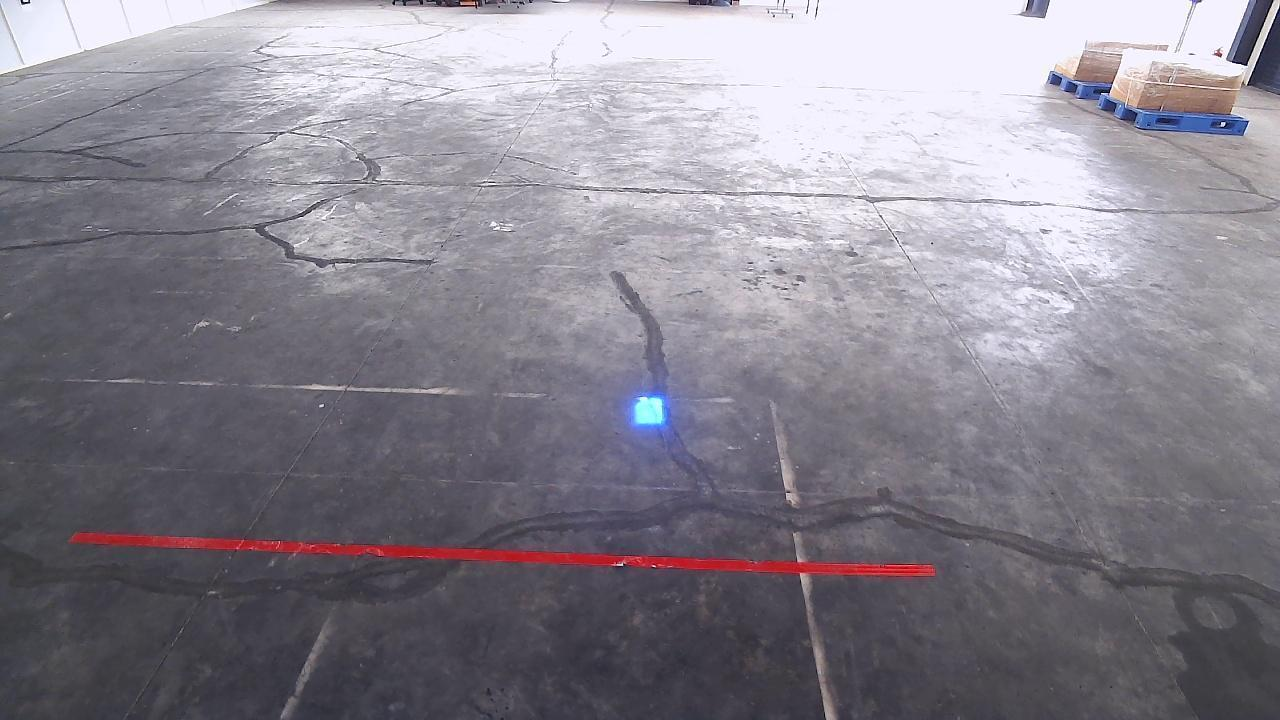red_line: (64, 532, 937, 575)
